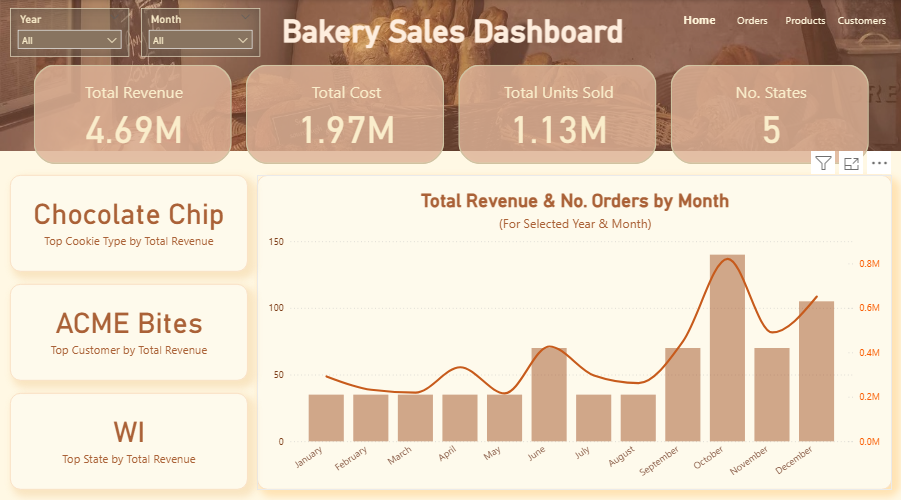

What the dashboard file says about the page in this screenshot:
{"tool":"powerbi","page":{"name":"Home","canvas":[1280,720],"ordinal":0},"visuals":[{"type":"image","box":[0,0,1279.8,214],"z":0},{"type":"shape","box":[0,0,1280,214],"z":1000},{"type":"slicer","fields":{"Values":["Orders.Date.Variation.Date Hierarchy.Year"]},"box":[14.2,11.3,168.7,69.4],"z":2000},{"type":"cardVisual","fields":{"Data":["_Measures.Total Revenue","_Measures.Total Cost","_Measures.Total Units Sold","_Measures.No. States"]},"box":[42.5,86.5,1196.2,151.7],"z":3000},{"type":"lineClusteredColumnComboChart","title":"Total Revenue & No. Orders by Month","fields":{"Category":["Orders.Date.Variation.Date Hierarchy.Month"],"Y2":["_Measures.Total Revenue"],"Y":["_Measures.No. Orders"]},"box":[364.3,248,900,446.5],"z":4000},{"type":"slicer","fields":{"Values":["Orders.Date.Variation.Date Hierarchy.Month"]},"box":[199.8,11.3,168.7,69.4],"z":5000},{"type":"card","fields":{"Values":["_Measures.Top State by Total Revenue"]},"box":[14.6,557,337.3,137.5],"z":6000},{"type":"card","fields":{"Values":["_Measures.Top Cookie Type by Total Revenue"]},"box":[14.6,248,337.3,137.5],"z":7000},{"type":"card","fields":{"Values":["_Measures.Top Customer by Total Revenue"]},"box":[14.6,402.5,337.3,137.5],"z":8000},{"type":"shape","box":[364.3,8.5,544.3,70.9],"z":9000},{"type":"actionButton","box":[1179.2,11.3,85,32.6],"z":10000},{"type":"actionButton","box":[1104.1,11.3,75.1,32.6],"z":11000},{"type":"actionButton","box":[1029,11.3,75.1,32.6],"z":12000},{"type":"actionButton","box":[953.9,11.3,75.1,32.6],"z":13000}]}

Visuals, with their boxes in screenshot pixels (x1, y1, x2, y2), scaled from the page's 1280x720 canvas onto the 901x500 screenshot:
image: <box>0,0,900,149</box>
shape: <box>0,0,900,149</box>
slicer - Orders.Date.Variation.Date Hierarchy.Year: <box>10,8,129,56</box>
cardVisual - _Measures.Total Revenue x _Measures.Total Cost: <box>30,60,872,165</box>
"Total Revenue & No. Orders by Month" lineClusteredColumnComboChart: <box>256,172,890,482</box>
slicer - Orders.Date.Variation.Date Hierarchy.Month: <box>141,8,259,56</box>
card - _Measures.Top State by Total Revenue: <box>10,387,248,482</box>
card - _Measures.Top Cookie Type by Total Revenue: <box>10,172,248,268</box>
card - _Measures.Top Customer by Total Revenue: <box>10,280,248,375</box>
shape: <box>256,6,640,55</box>
actionButton: <box>830,8,890,30</box>
actionButton: <box>777,8,830,30</box>
actionButton: <box>724,8,777,30</box>
actionButton: <box>671,8,724,30</box>
